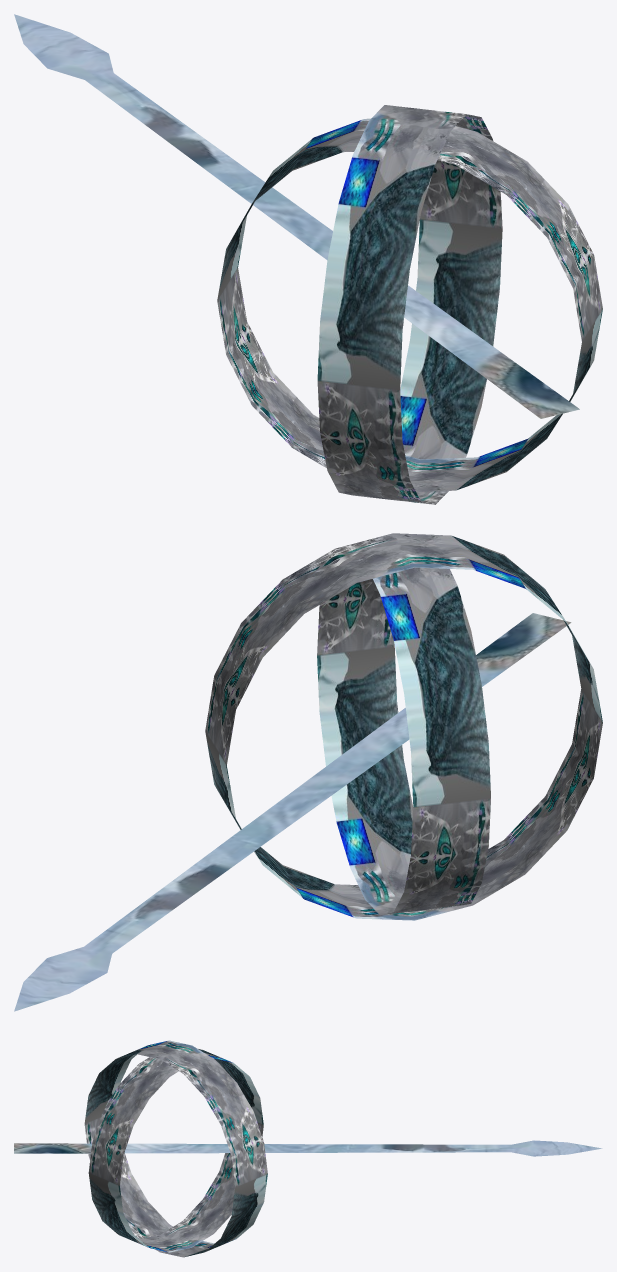
The model's file is _iegfried_weapon_balmung.glb.
3 views of the same model, one above another, from view 1: azimuth 30°, elevation 25°; view 2: azimuth 150°, elevation 25°; view 3: azimuth 270°, elevation 25° (orthographic). The views are drawn at different scales.
Bounding box in the file's own units: 0.3054 × 0.3552 × 0.9819.
Materials: 1 (1 with a texture image).
